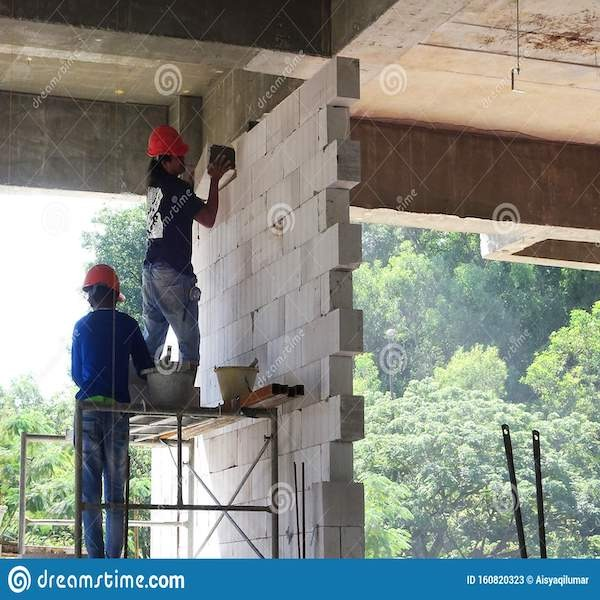helmet: (146, 125, 190, 162), (80, 264, 126, 292)
